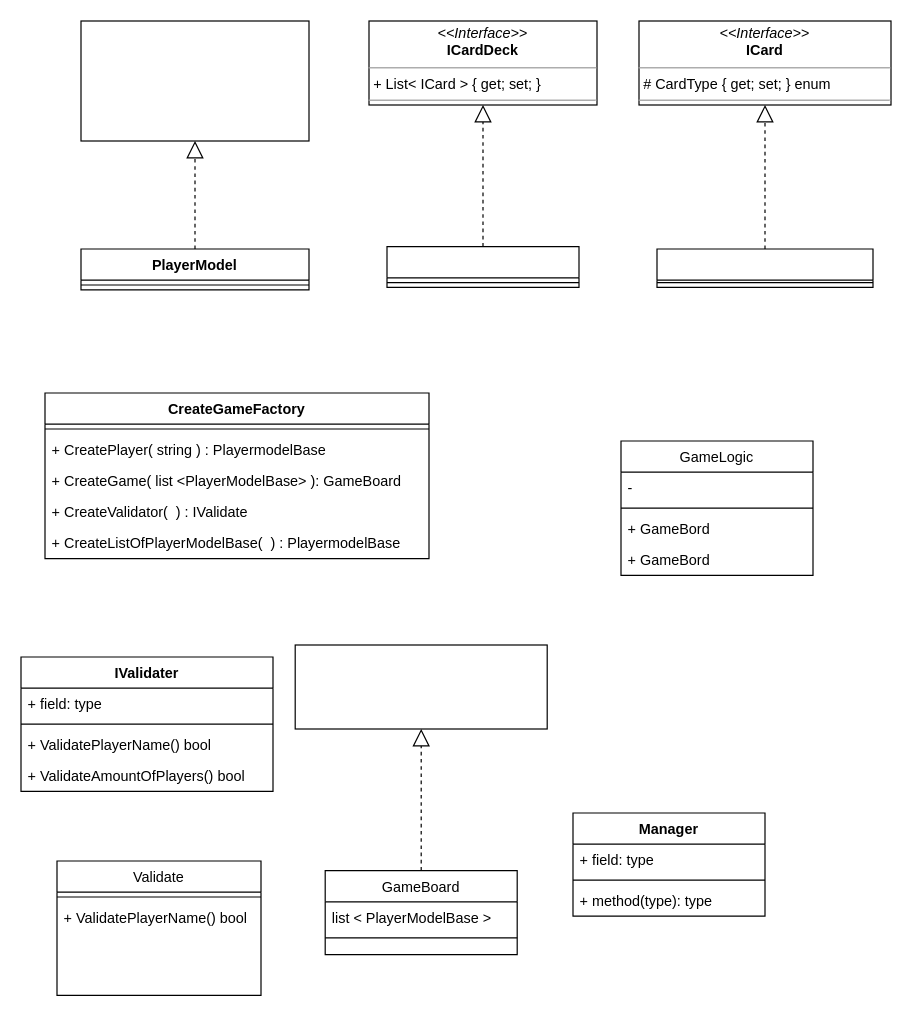
Image size: 912x1016. Some labels were removed from this diagram. The centre of each missing label's shape, as x and y in pixels:
<<Interface>> IGameBoard + list< PlayermodelBase > {get;set;}: pixel 420 686
<<Interface>> IPlayer + Name : String + List < ICard >: pixel 194 80
CardDeck: pixel 482 266
CardModel: pixel 764 267
